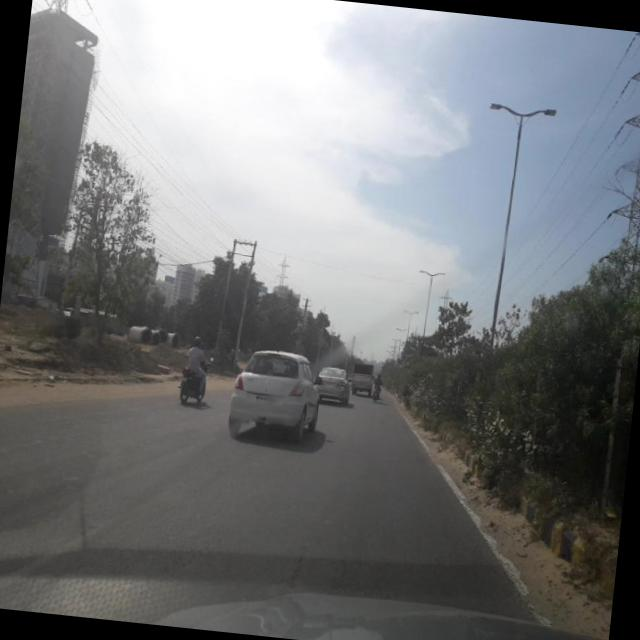crack: (0, 420, 524, 608)
pothole: (278, 512, 309, 590)
